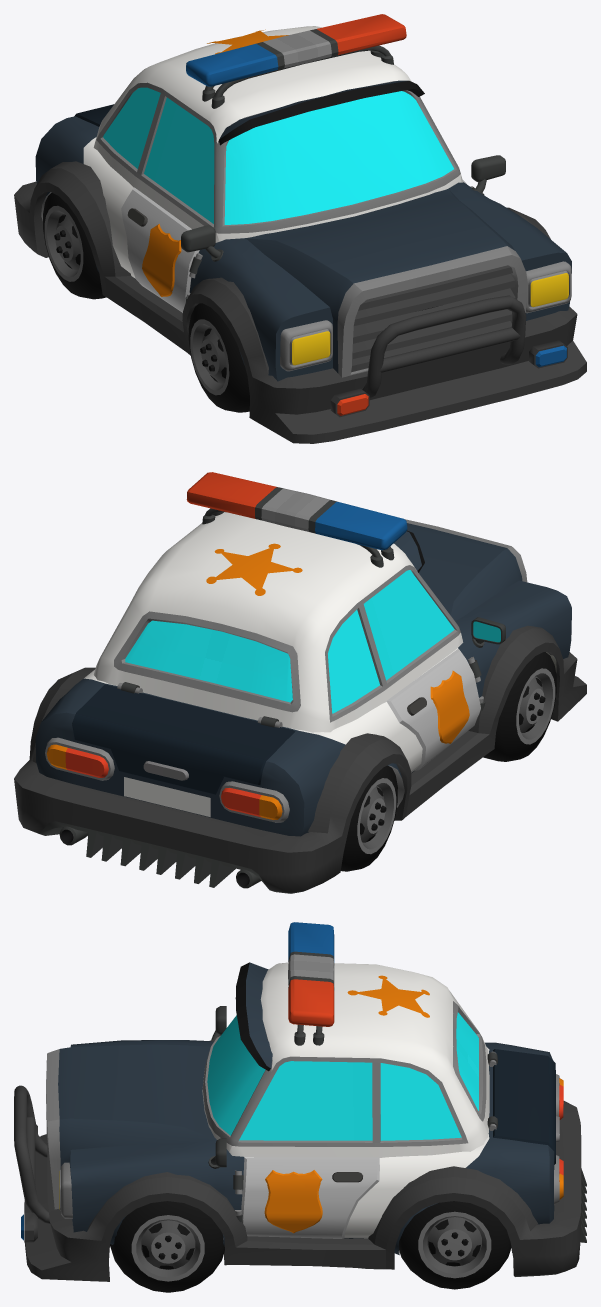
File: VEH5-A.fbx
3 renders of one model, top to bottom at view 1: azimuth 30°, elevation 25°; view 2: azimuth 150°, elevation 25°; view 3: azimuth 270°, elevation 25°, orthographic. The views are drawn at different scales.
Parts seen in each view (by area): view 1: VEH5_A, V5A_BodyParts, V5A_Wheel_FR, V5A_Wheel_BR; view 2: VEH5_A, V5A_BodyParts, V5A_Wheel_FR, V5A_Wheel_BR; view 3: VEH5_A, V5A_Wheel_FL, V5A_Wheel_BL, V5A_BodyParts.
Part boxes in pixels (x1,y1,x2,y2): VEH5_A: (14,26,586,443); V5A_BodyParts: (186,14,567,417); V5A_Wheel_FR: (188,303,249,412); V5A_Wheel_BR: (43,193,106,299); VEH5_A: (14,508,586,893); V5A_BodyParts: (186,472,407,550); V5A_Wheel_FR: (483,652,556,761); V5A_Wheel_BR: (341,765,397,871); VEH5_A: (14,962,586,1281); V5A_Wheel_FL: (110,1201,224,1292); V5A_Wheel_BL: (399,1201,511,1289); V5A_BodyParts: (21,922,334,1242).
Bounding box in the file's own units: 276 × 221 × 439.
1 material, 1 textured.
